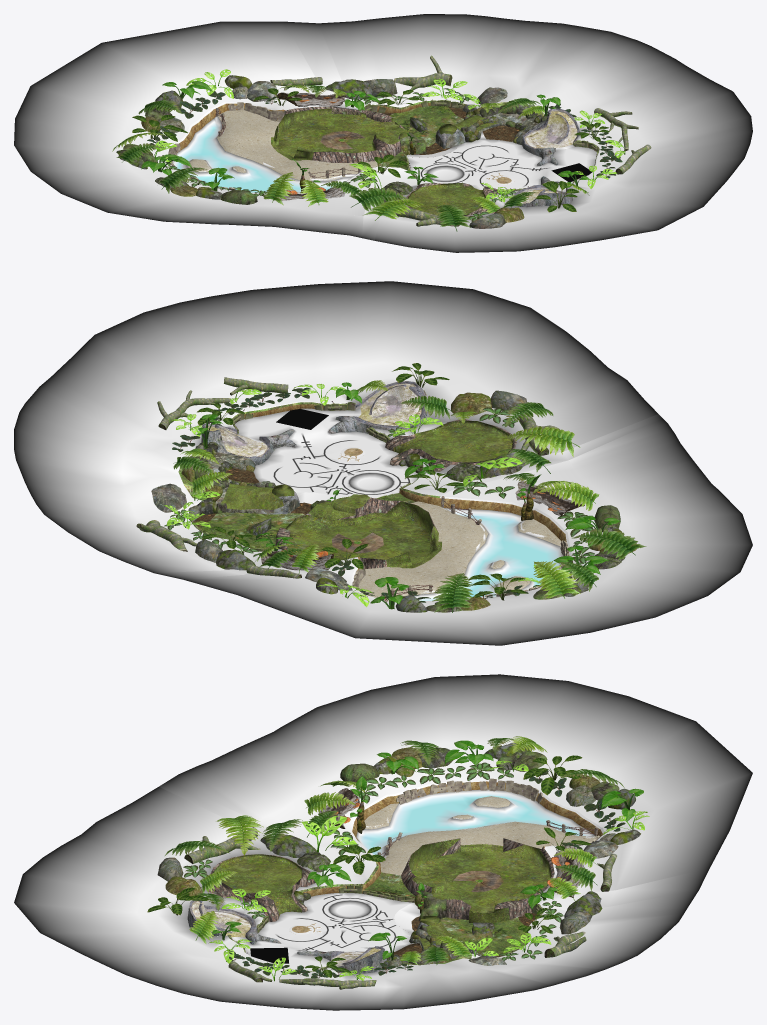
Rendered from Impact Site.fbx.
3 views of the same model, one above another, from view 1: azimuth 30°, elevation 25°; view 2: azimuth 150°, elevation 25°; view 3: azimuth 270°, elevation 25° (orthographic). The views are drawn at different scales.
Visible parts, largest first — view 1: Mesh_0010.013, Mesh_0010.019, Mesh_0010.043, Mesh_0010.002, Mesh_0010.033, pPlane195__Bb_leef_01.013, Mesh_0010.017, pPlane195__Bb_leef_01.015, polySurface1165__Bb_leef_08.005, polySurface1153__Aa_wood_00.001, polySurface1267__Bb_leef_00.008, polySurface1038_3__Bb_leef_02.009 (+22 smaller); view 2: Mesh_0010.013, Mesh_0010.019, Mesh_0010.043, Mesh_0010.002, pPlane195__Bb_leef_01.013, pPlane195__Bb_leef_01.015, Mesh_0010.017, Mesh_0010.033, polySurface1038_3__Bb_leef_02.009, polySurface1153__Aa_wood_00.001, polySurface1165__Bb_leef_08.005, Mesh_0010.010 (+23 smaller); view 3: Mesh_0010.019, Mesh_0010.013, Mesh_0010.043, Mesh_0010.017, Mesh_0010.033, Mesh_0010.002, pPlane195__Bb_leef_01.015, polySurface1038_3__Bb_leef_02.009, pPlane195__Bb_leef_01.013, Mesh_0010.004, polySurface1267__Bb_leef_00.008, polySurface1165__Bb_leef_08.005 (+19 smaller).
Part boxes in pixels (box(x1,y1,x2,y2)): Mesh_0010.013: box(318, 14, 752, 252); Mesh_0010.019: box(14, 21, 596, 237); Mesh_0010.043: box(271, 108, 485, 215); Mesh_0010.002: box(187, 110, 377, 193); Mesh_0010.033: box(167, 21, 573, 240); pPlane195__Bb_leef_01.013: box(116, 85, 540, 231); Mesh_0010.017: box(172, 116, 351, 193); pPlane195__Bb_leef_01.015: box(112, 85, 589, 220); polySurface1165__Bb_leef_08.005: box(132, 88, 609, 212); polySurface1153__Aa_wood_00.001: box(272, 55, 651, 226); polySurface1267__Bb_leef_00.008: box(154, 69, 625, 202); polySurface1038_3__Bb_leef_02.009: box(141, 81, 589, 191); Mesh_0010.013: box(14, 281, 657, 579); Mesh_0010.019: box(184, 408, 752, 645); Mesh_0010.043: box(221, 421, 513, 568); Mesh_0010.002: box(358, 501, 561, 601); pPlane195__Bb_leef_01.013: box(173, 395, 646, 612); pPlane195__Bb_leef_01.015: box(180, 380, 599, 598); Mesh_0010.017: box(414, 508, 563, 600); Mesh_0010.033: box(154, 408, 662, 601); polySurface1038_3__Bb_leef_02.009: box(196, 382, 620, 609); polySurface1153__Aa_wood_00.001: box(139, 377, 558, 578); polySurface1165__Bb_leef_08.005: box(197, 363, 526, 600); Mesh_0010.010: box(205, 383, 421, 457); Mesh_0010.019: box(169, 674, 752, 971); Mesh_0010.013: box(14, 787, 701, 1010); Mesh_0010.043: box(213, 838, 551, 944); Mesh_0010.017: box(356, 789, 594, 856); Mesh_0010.033: box(159, 779, 709, 961); Mesh_0010.002: box(364, 796, 596, 875); pPlane195__Bb_leef_01.015: box(189, 736, 596, 965); polySurface1038_3__Bb_leef_02.009: box(212, 740, 643, 960); pPlane195__Bb_leef_01.013: box(165, 738, 624, 964); Mesh_0010.004: box(208, 838, 554, 921); polySurface1267__Bb_leef_00.008: box(209, 760, 649, 981); polySurface1165__Bb_leef_08.005: box(147, 755, 591, 977).
Size of the model in its own units: 5606 by 505 by 5232.
